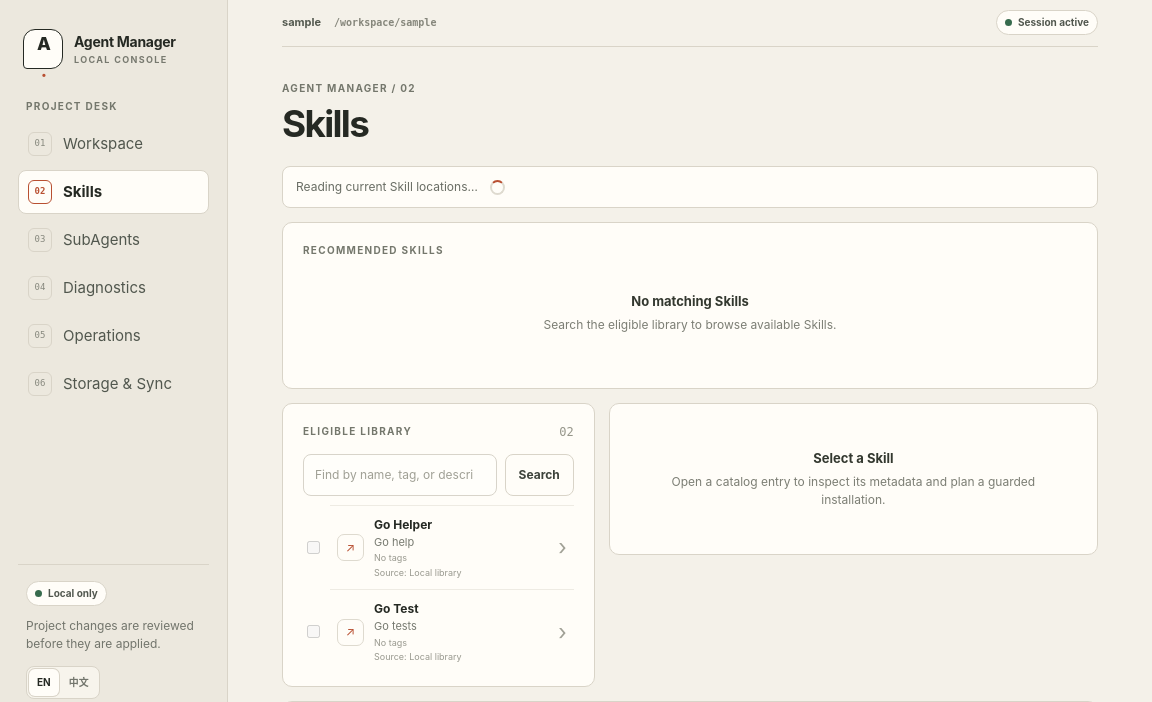
Scenario: console entry and guarded installation › renders installation previews with null Go slice fields
Click the checkbox named "Select go-helper": (314, 547) top-left (307, 541), bottom-right (320, 554)
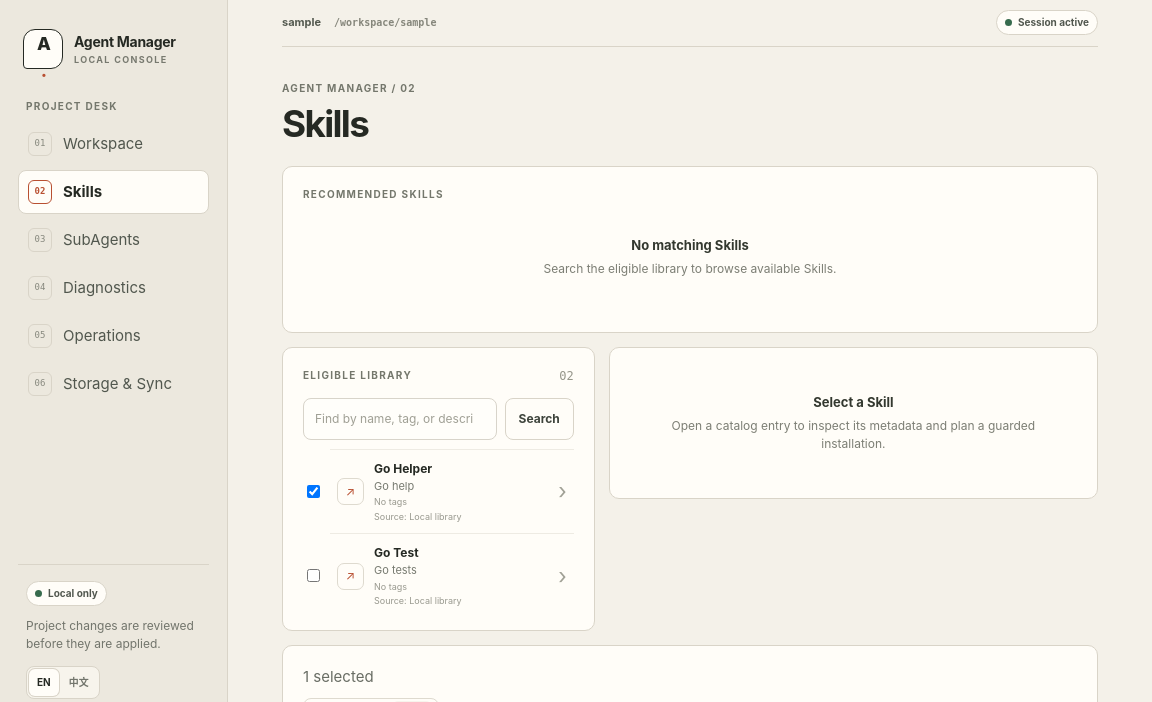
Click the checkbox named "Select go-test": (314, 576) top-left (307, 569), bottom-right (320, 582)
(page scrolled)
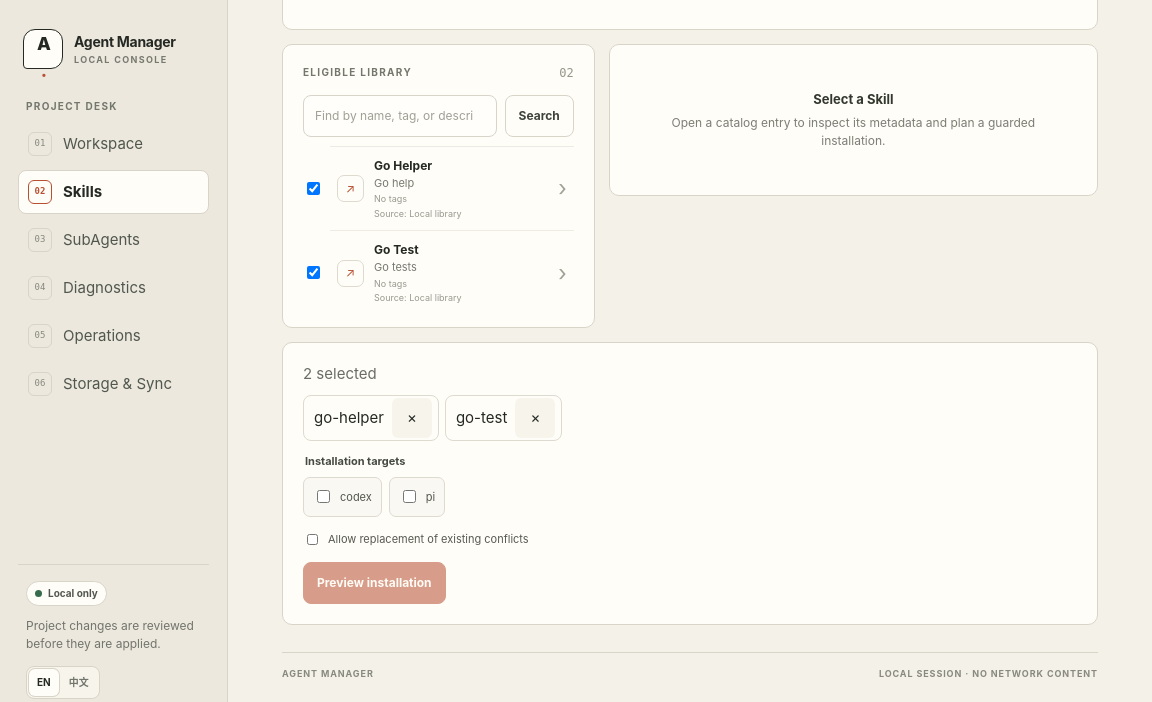
Click the checkbox labelled "pi": (409, 497) top-left (403, 490), bottom-right (416, 503)
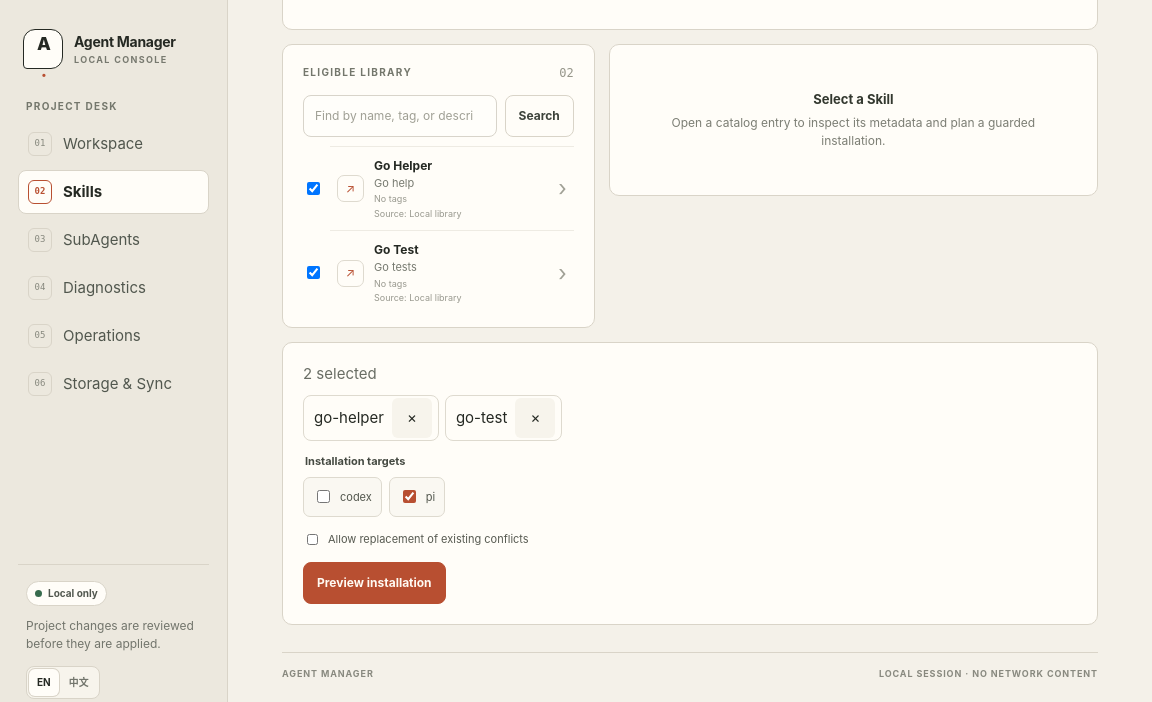
Click the button "Preview installation": (374, 583) top-left (303, 562), bottom-right (446, 604)
(page scrolled)
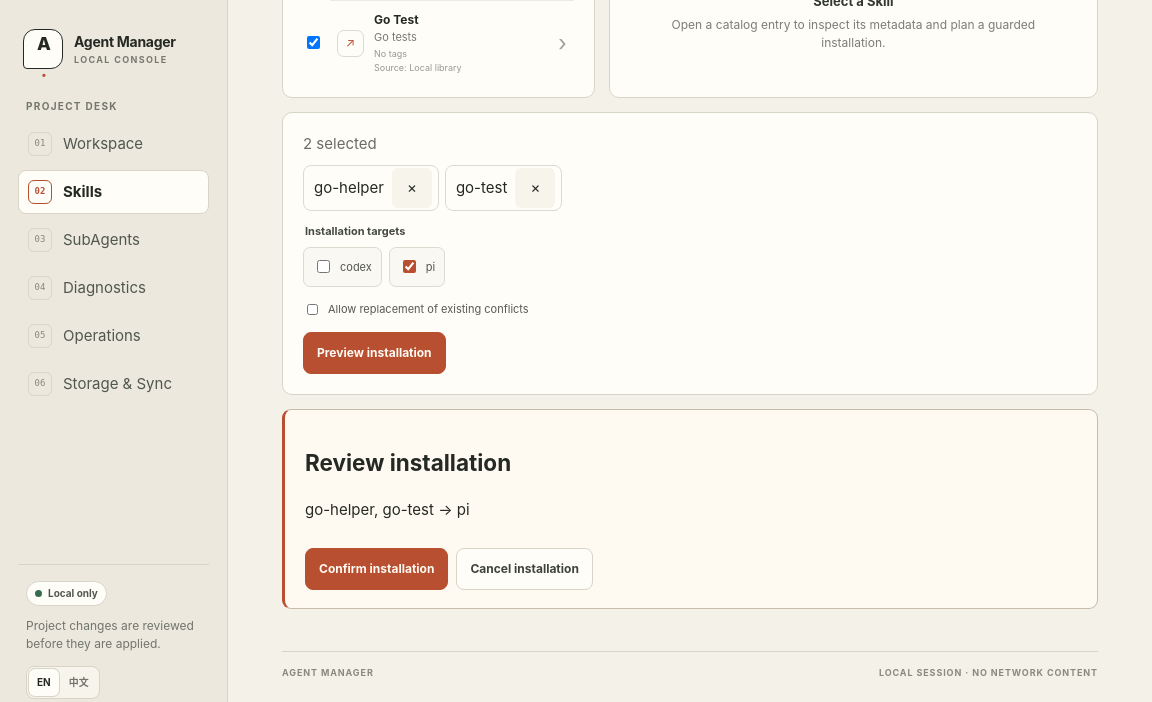
Check: the heading "Review installation" is shown, box top-left (305, 450), bottom-right (511, 476)
Check: the button "Confirm installation" is enabled, box top-left (305, 548), bottom-right (448, 590)
